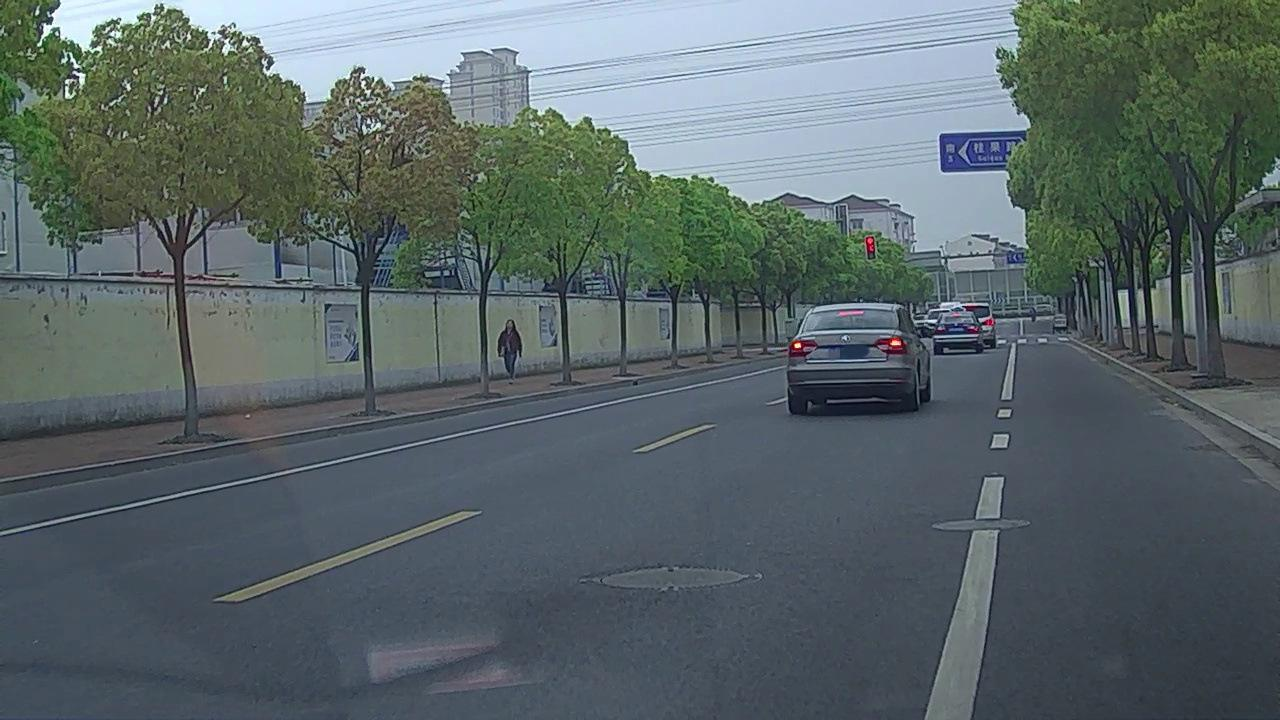traffic_light: (865, 237, 876, 260)
